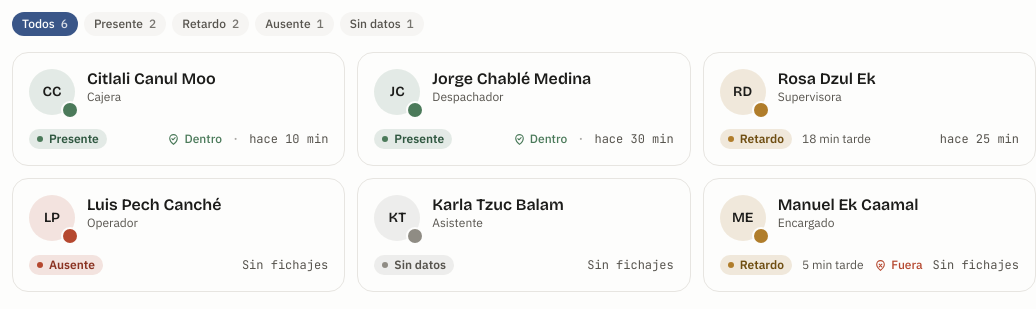
it: TeamStatusBoard › FILTRADO CLAVE: clic en 'Retardo' → solo retardos visibles; conteos correctos en TODAS las pills
Note: Hacer clic en el filtro "Retardo".
Click the button "Retardo 2" at (211, 24), box [172,12,249,36]
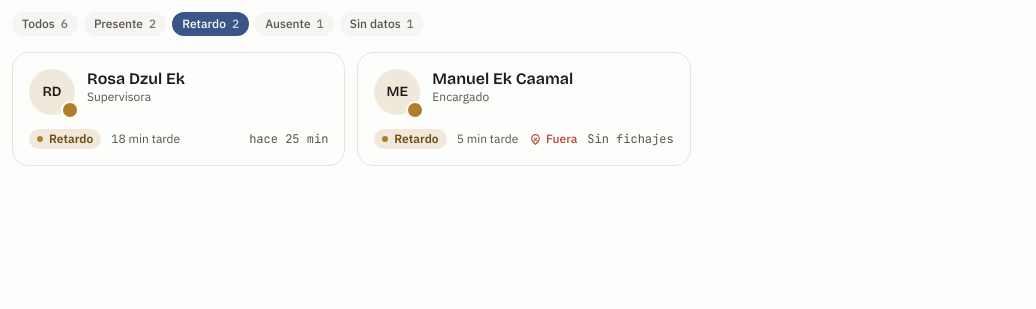
Now the text "Citlali Canul Moo" is gone
Now the text "Jorge Chablé Medina" is gone
Now the text "Luis Pech Canché" is gone
